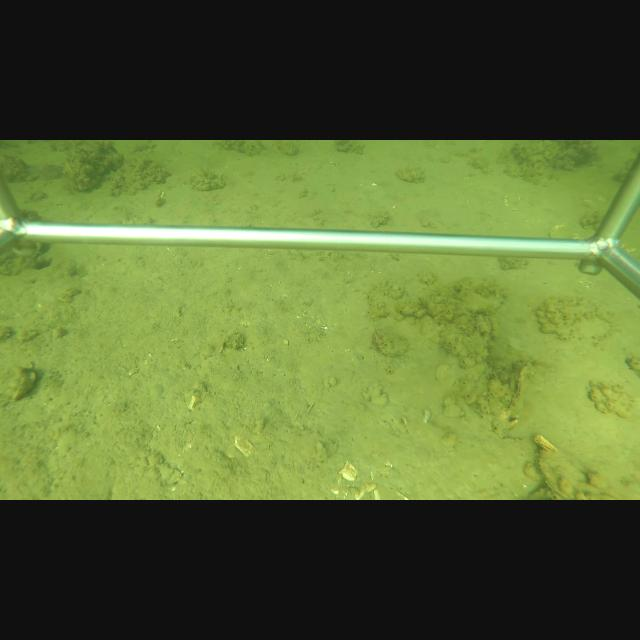Oyster-Closed: (534, 438, 585, 498), (506, 360, 531, 412), (4, 368, 36, 407)
